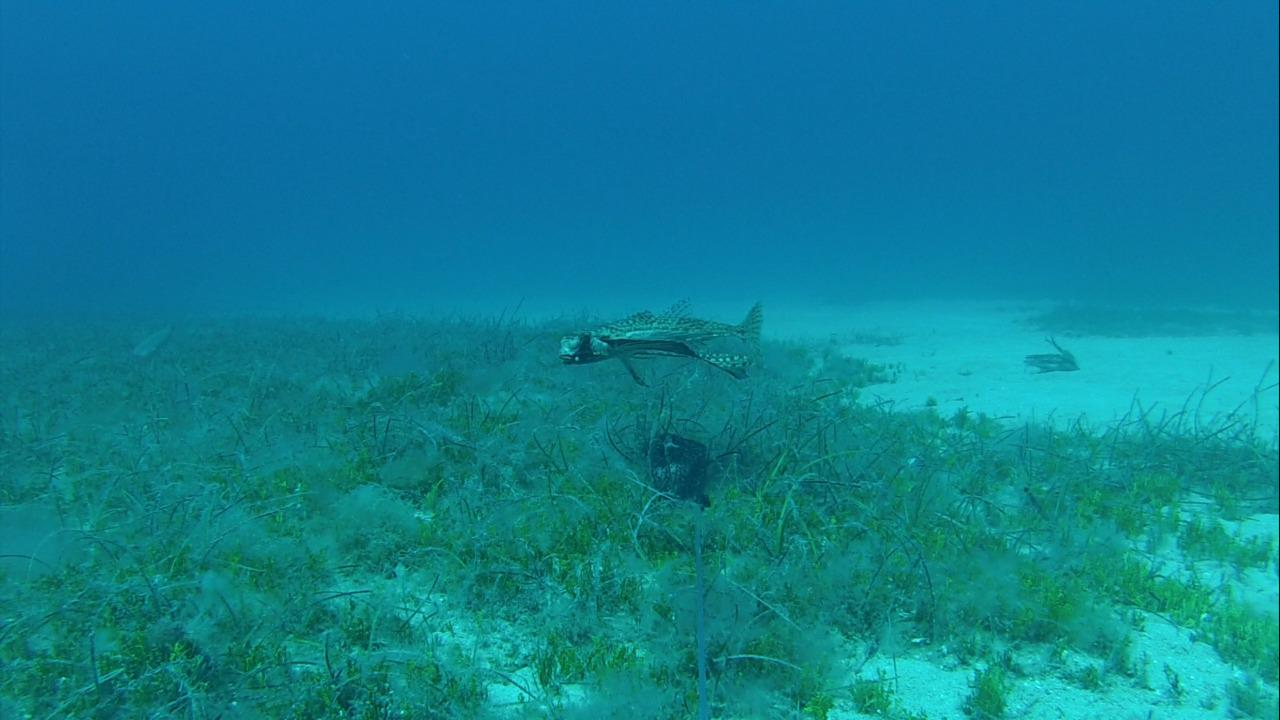dactylopterus: (552, 292, 760, 375)
raor: (135, 320, 178, 361)
